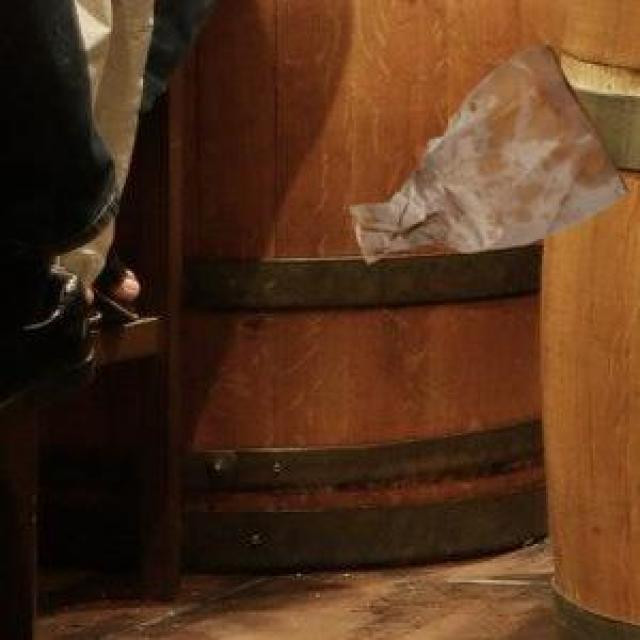paper: (346, 36, 625, 258)
